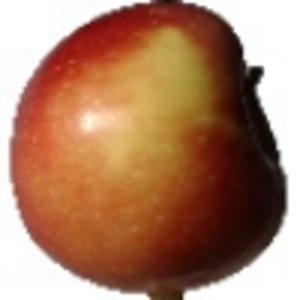maçã braeburn: (9, 1, 292, 292)
